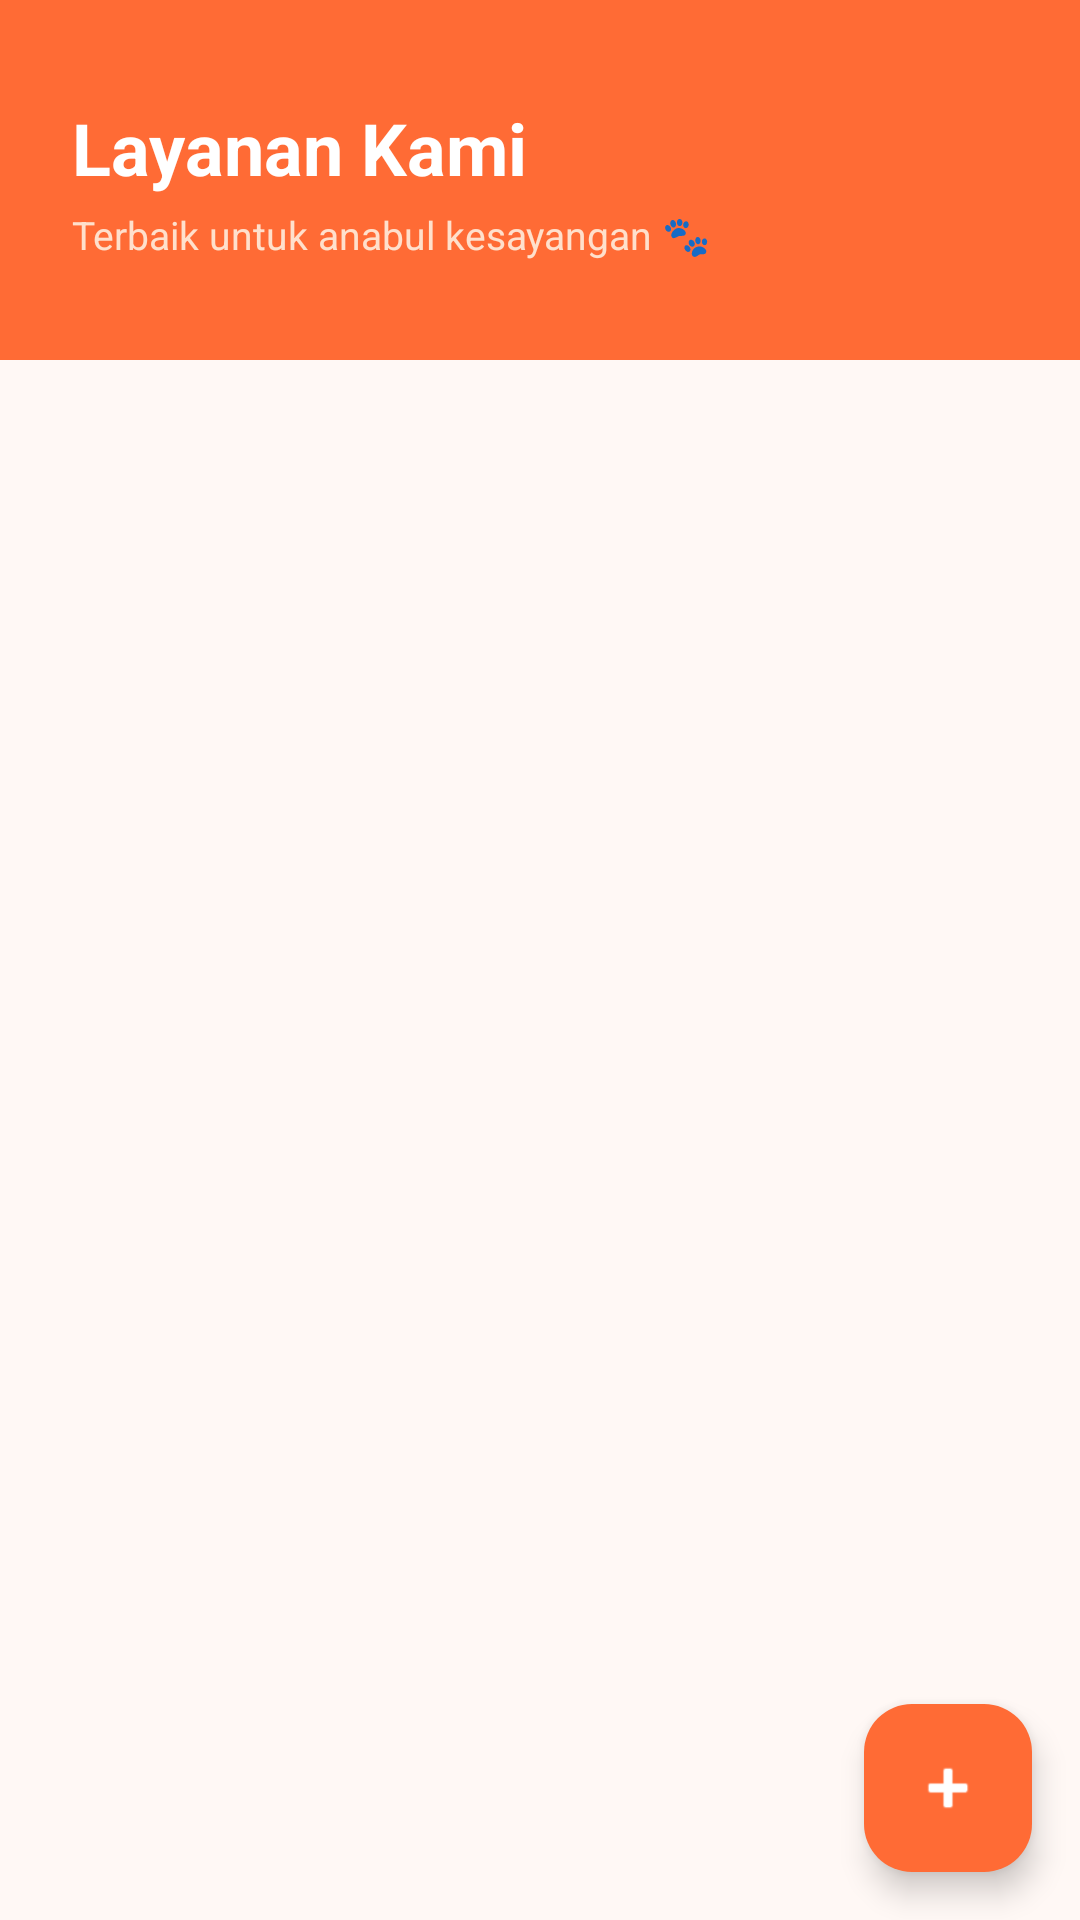

Named icons in this screenshot (1080px×1920px) and their bounding boxes, (x1,y1,x2,y2):
Tambah Layanan: (864,1704,1032,1872)
